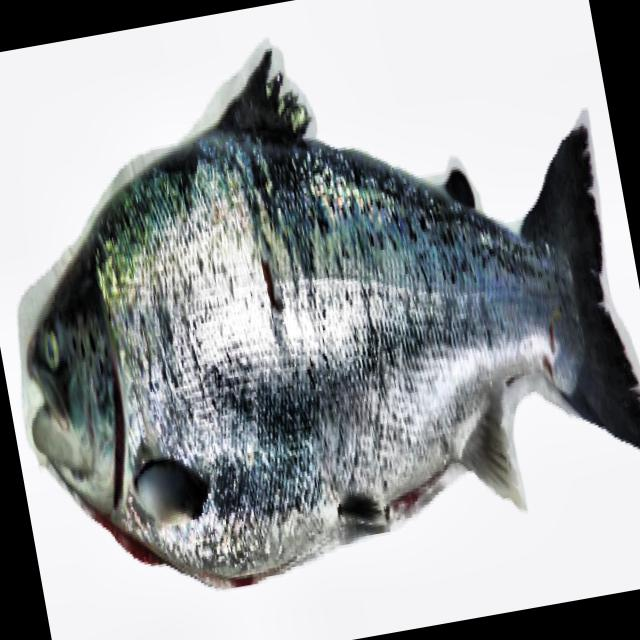mild_red: (84, 135, 575, 575)
